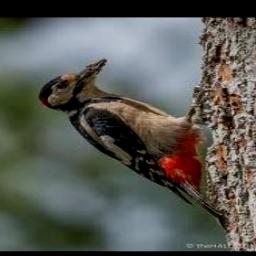Woodpecker: (39, 59, 229, 230)
